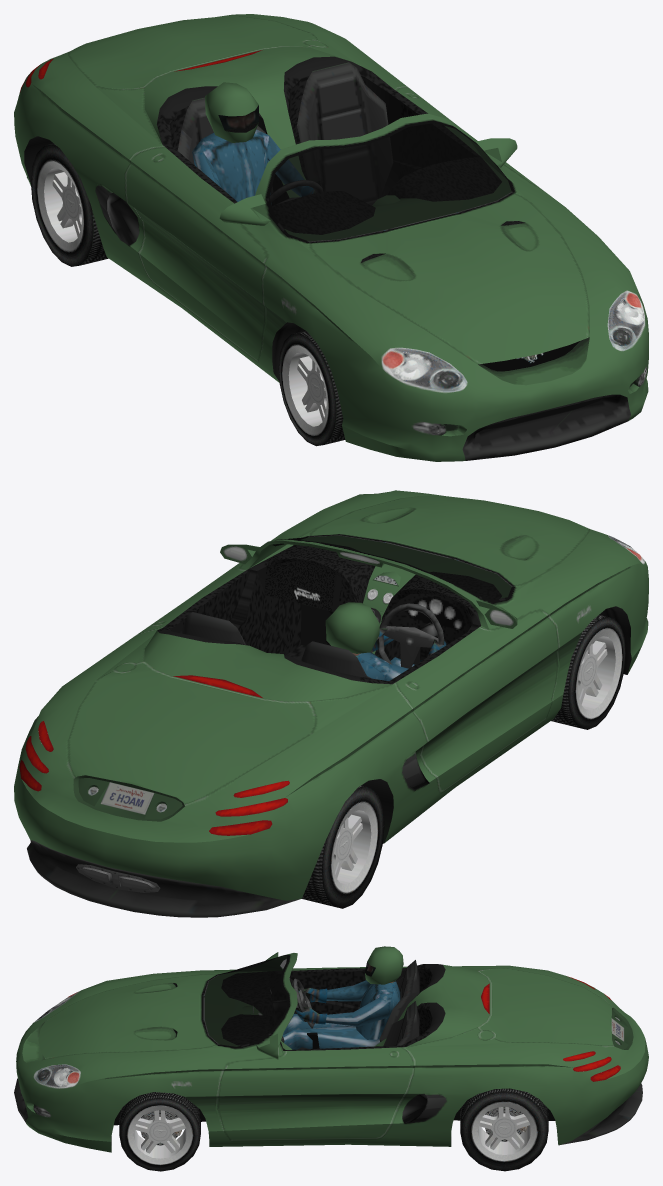
File: MACH3.glb
3 renders of one model, top to bottom at view 1: azimuth 30°, elevation 25°; view 2: azimuth 150°, elevation 25°; view 3: azimuth 270°, elevation 25°, orthographic. The views are drawn at different scales.
Parts seen in each view (by area): view 1: tree_node_127fac, WHEEL_STATIC_0x128204, WHEEL_STATIC_0x12814c, HELMET_0x12806c; view 2: tree_node_127fac, WHEEL_STATIC_0x128204, WHEEL_STATIC_0x12814c, BRAKE_LIGHTS_OFF_0x1280bc, HELMET_0x12806c; view 3: tree_node_127fac, WHEEL_STATIC_0x128374, WHEEL_STATIC_0x1282bc, HELMET_0x12806c, BRAKE_LIGHTS_OFF_0x1280bc.
Part boxes in pixels (bbox=[...]): tree_node_127fac: bbox=[14, 14, 648, 461]; WHEEL_STATIC_0x128204: bbox=[31, 143, 108, 266]; WHEEL_STATIC_0x12814c: bbox=[278, 331, 345, 446]; HELMET_0x12806c: bbox=[205, 82, 258, 142]; tree_node_127fac: bbox=[14, 490, 648, 917]; WHEEL_STATIC_0x128204: bbox=[302, 785, 384, 908]; WHEEL_STATIC_0x12814c: bbox=[551, 615, 625, 729]; BRAKE_LIGHTS_OFF_0x1280bc: bbox=[19, 675, 289, 835]; HELMET_0x12806c: bbox=[325, 602, 379, 653]; tree_node_127fac: bbox=[14, 952, 648, 1152]; WHEEL_STATIC_0x128374: bbox=[460, 1088, 548, 1171]; WHEEL_STATIC_0x1282bc: bbox=[119, 1092, 200, 1171]; HELMET_0x12806c: bbox=[365, 946, 403, 984]; BRAKE_LIGHTS_OFF_0x1280bc: bbox=[481, 976, 620, 1081].
Size of the model in its own units: 1.94 by 1.28 by 4.82.
4 materials, 1 textured.
